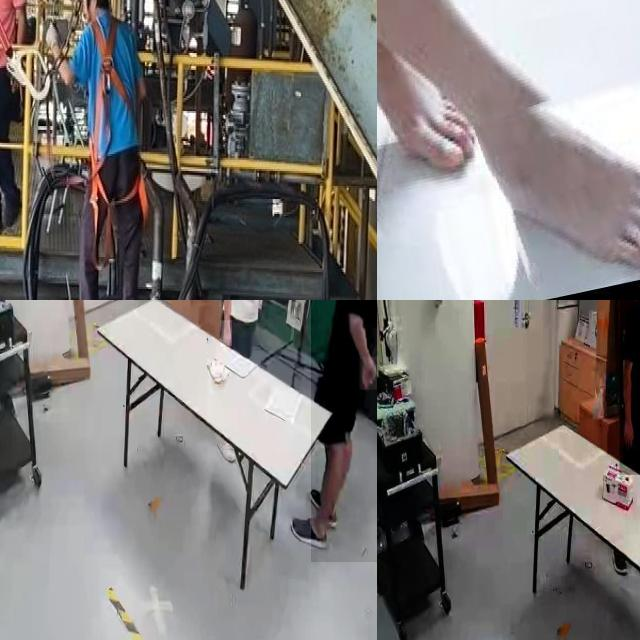Barefoots: (506, 102, 640, 278)
Harness: (89, 13, 150, 251)
hand_noglove: (359, 356, 377, 390), (621, 418, 634, 452), (220, 320, 232, 347)
person: (311, 300, 377, 563), (619, 300, 640, 475), (222, 300, 269, 360)
shoes: (306, 481, 339, 528), (290, 514, 330, 552)
